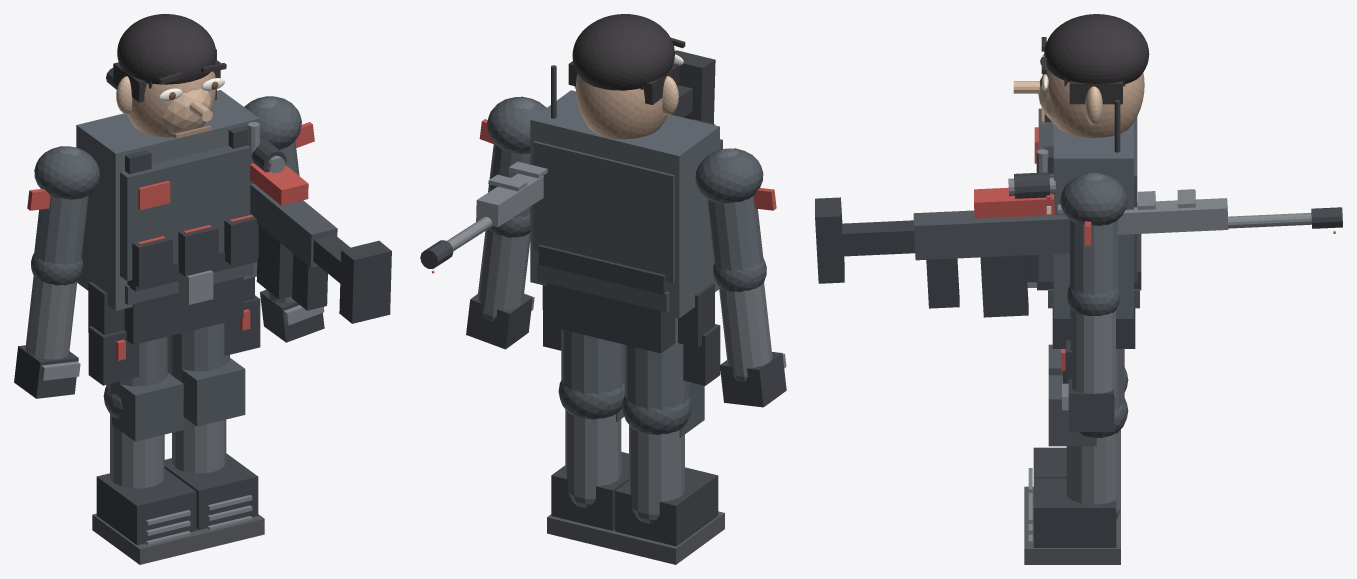
The model's file is jokowi-enemy-v2.glb.
3 renders of one model, left to right at view 1: azimuth 30°, elevation 25°; view 2: azimuth 150°, elevation 25°; view 3: azimuth 270°, elevation 25°, orthographic. The views are drawn at different scales.
Parts seen in each view (by area): view 1: Body, LeftLeg, RightLeg, Rifle, LeftArm, Head, Pelvis, RightArm; view 2: Body, LeftLeg, LeftArm, RightLeg, Head, RightArm, Pelvis, Rifle; view 3: Rifle, RightLeg, RightArm, Head, Body, LeftLeg, Pelvis.
Boxes of the visible parts, <box> form: Body: <box>76,90,259,310</box>; LeftLeg: <box>88,326,202,564</box>; RightLeg: <box>164,295,264,549</box>; Rifle: <box>106,68,391,323</box>; LeftArm: <box>14,146,99,398</box>; Head: <box>113,14,226,138</box>; Pelvis: <box>88,263,254,344</box>; RightArm: <box>244,96,324,342</box>; Body: <box>530,90,722,318</box>; LeftLeg: <box>610,317,724,564</box>; LeftArm: <box>695,148,786,407</box>; RightLeg: <box>543,310,628,549</box>; Head: <box>568,14,685,139</box>; RightArm: <box>466,96,546,349</box>; Pelvis: <box>537,261,714,353</box>; Rifle: <box>420,50,715,268</box>; Rifle: <box>815,172,1342,317</box>; RightLeg: <box>1024,340,1128,564</box>; RightArm: <box>1060,172,1127,431</box>; Head: <box>1013,14,1149,137</box>; Body: <box>1025,108,1141,318</box>; LeftLeg: <box>1024,344,1128,518</box>; Pelvis: <box>1027,282,1139,350</box>.
Size of the model in its own units: 1.44 by 2.4 by 2.24.
Materials: 9 (6 with a texture image).
